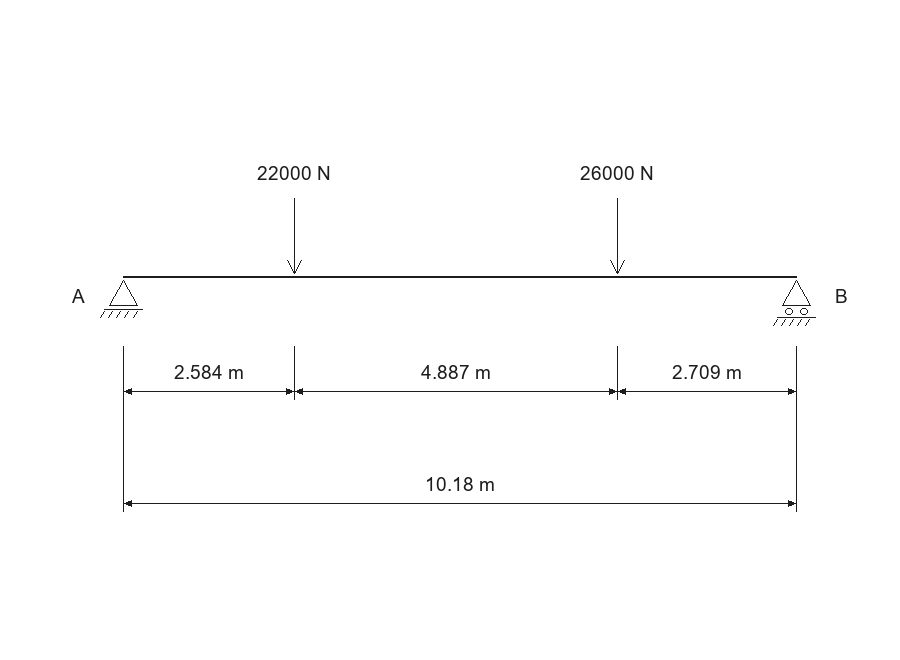pin_support: (100, 280, 143, 318)
point_load: (287, 198, 302, 274), (610, 198, 625, 274)
roller_support: (773, 280, 816, 326)
